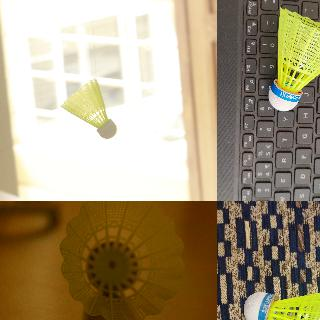shuttlecock: (60, 201, 185, 319), (267, 7, 319, 112), (61, 78, 116, 138), (242, 286, 319, 319)
